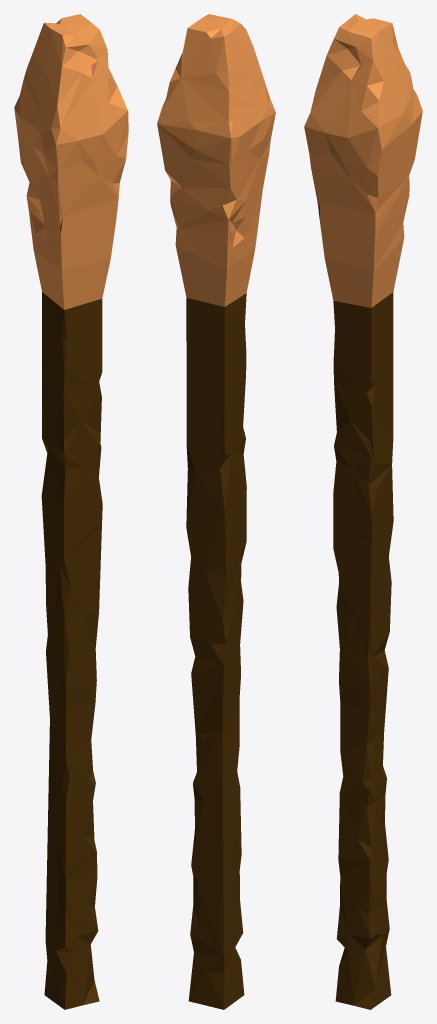
Rendered from torchevraie.fbx.
3 renders of one model, left to right at view 1: azimuth 30°, elevation 25°; view 2: azimuth 150°, elevation 25°; view 3: azimuth 330°, elevation 25°, orthographic.
Visible parts, largest first — view 1: torche; view 2: torche; view 3: torche.
Boxes of the visible parts, x1,y1,x2,y2 form: torche: (14, 14, 128, 1009); torche: (157, 14, 275, 1009); torche: (304, 14, 422, 1009).
Bounding box in the file's own units: 14.01 × 171 × 14.45.
